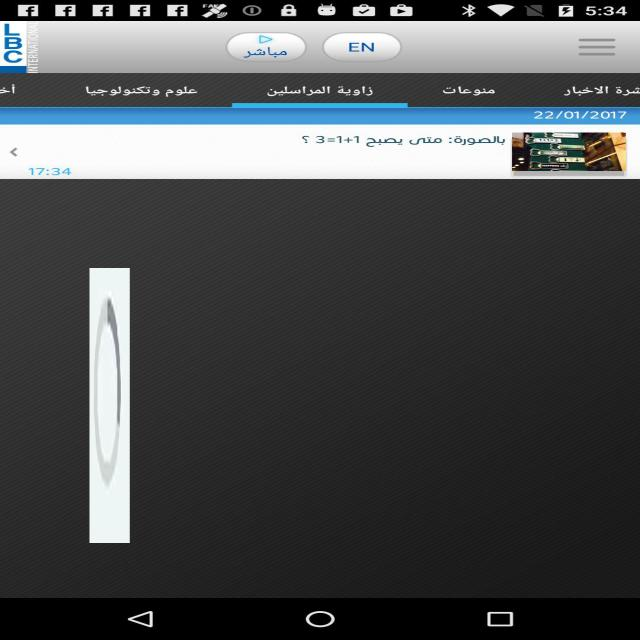misdirection: (89, 268, 130, 543)
